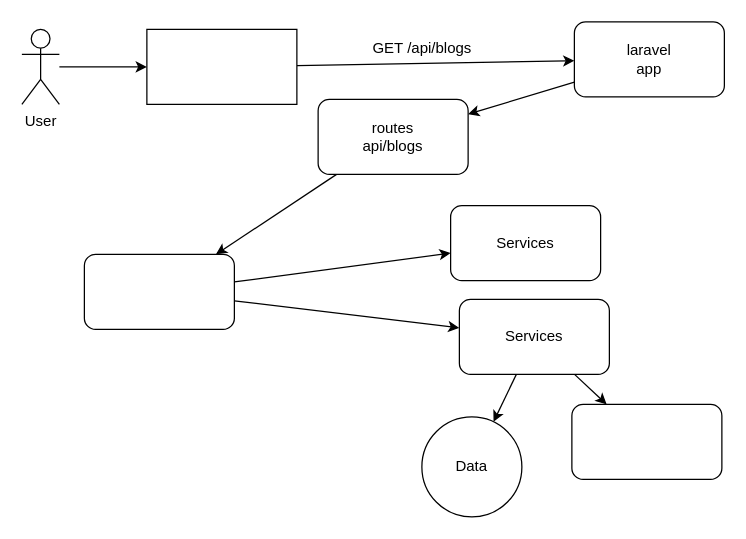
The diagram is 746 pixels wide and 539 high, and some of its shapes have lost their labels. The shapes that lost their labels are listed below. From the top down, each one's centre as x and y in pixels, then its label:
point (221, 66): Client
point (158, 291): BlogController
point (646, 441): SubService
